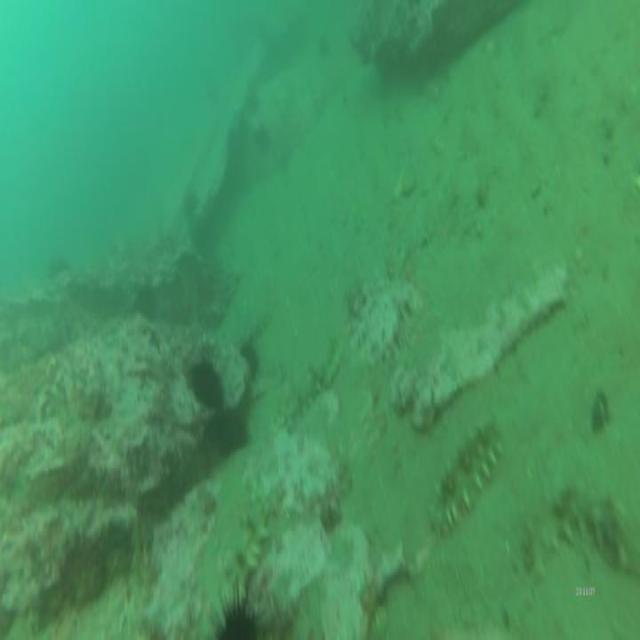echinus: (186, 338, 231, 414), (210, 584, 268, 640)
holothurian: (525, 481, 640, 583), (424, 420, 508, 544), (220, 470, 284, 600), (277, 332, 344, 428)
